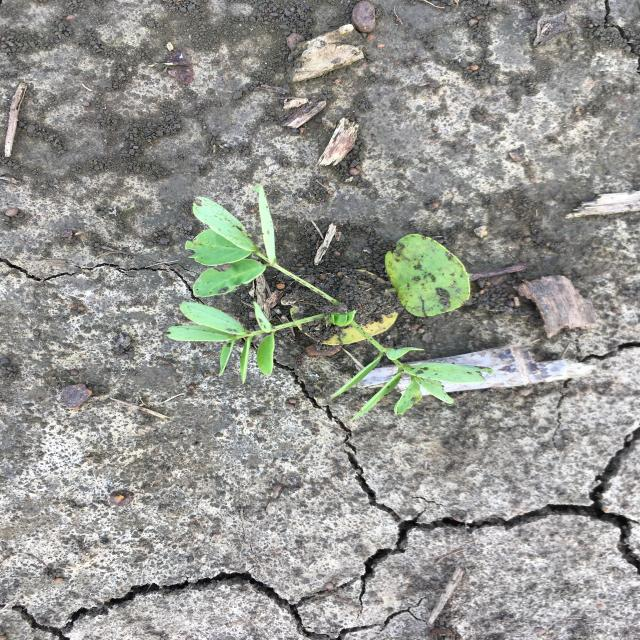Sicklepod: (164, 184, 498, 423)
